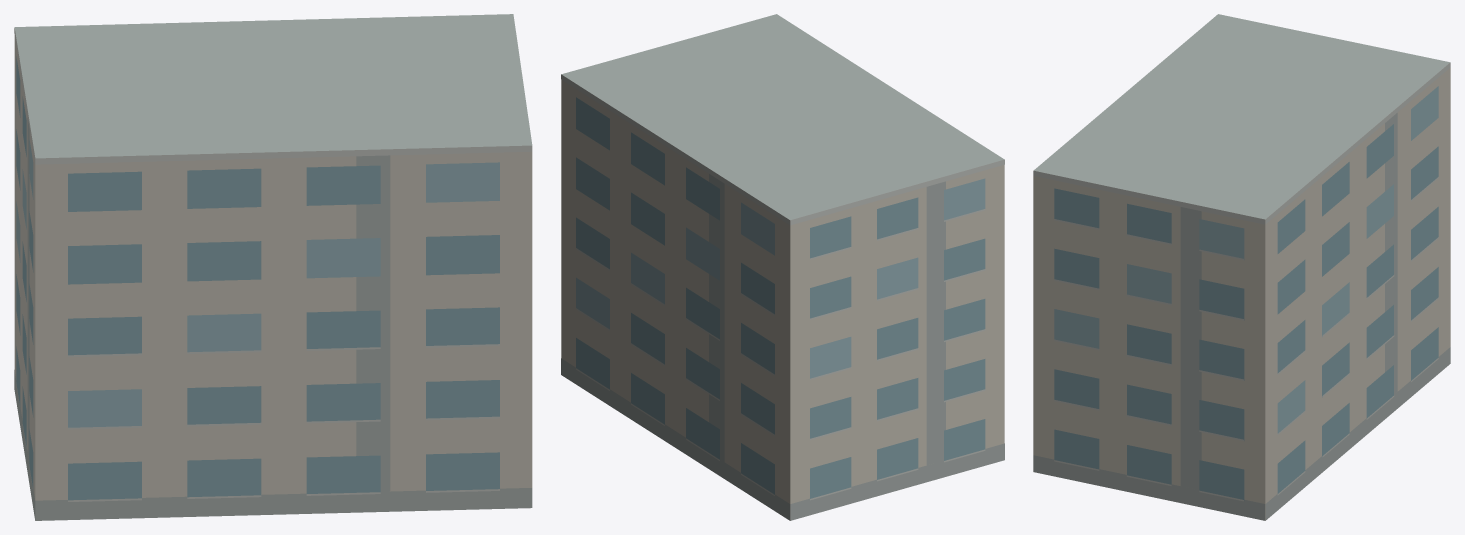
The model's file is survey-upis-32881805.glb.
3 views of the same model, side by side, from view 1: azimuth 30°, elevation 25°; view 2: azimuth 150°, elevation 25°; view 3: azimuth 270°, elevation 25° (orthographic). The views are drawn at different scales.
Visible parts, largest first — view 1: survey-upis-32881805.tmp; view 2: survey-upis-32881805.tmp; view 3: survey-upis-32881805.tmp.
Part boxes in pixels (x1,y1,x2,y2): survey-upis-32881805.tmp: (14,14,532,520); survey-upis-32881805.tmp: (561,14,1004,520); survey-upis-32881805.tmp: (1033,14,1450,520).
Bounding box in the file's own units: 20.77 × 14.2 × 17.82.
